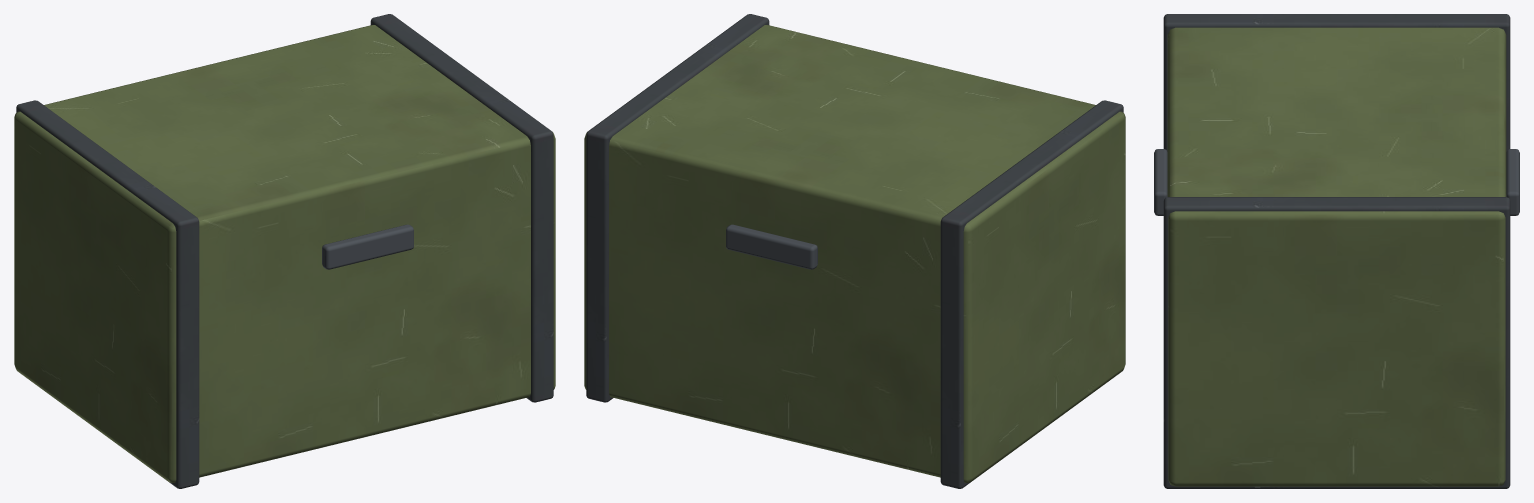
File: SupplyCrate.glb
The picture shows the model from 3 angles, left to right: view 1: azimuth 30°, elevation 25°; view 2: azimuth 150°, elevation 25°; view 3: azimuth 270°, elevation 25°; orthographic projection. The views are drawn at different scales.
Parts seen in each view (by area): view 1: SupplyCrate_Body; view 2: SupplyCrate_Body; view 3: SupplyCrate_Body.
Part boxes in pixels (left/top/right/bottom): SupplyCrate_Body: left=14, top=14, right=555, bottom=488; SupplyCrate_Body: left=584, top=14, right=1125, bottom=488; SupplyCrate_Body: left=1154, top=14, right=1519, bottom=488.
Bounding box in the file's own units: 0.7 × 0.462 × 0.54.
3 materials, 2 textured.
